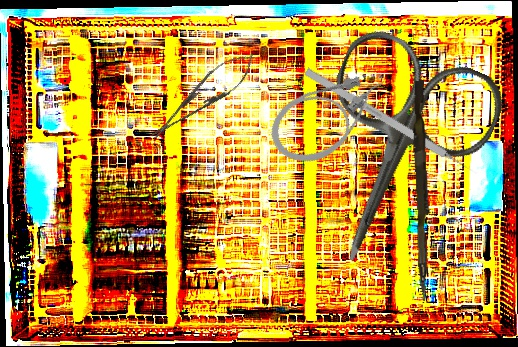Cannula: (259, 61, 402, 175)
Hook Surgical: (303, 67, 480, 178)
Iris Scissors: (272, 21, 513, 292)
Needle Holder: (143, 43, 263, 149)
Pusher: (408, 80, 436, 301)
